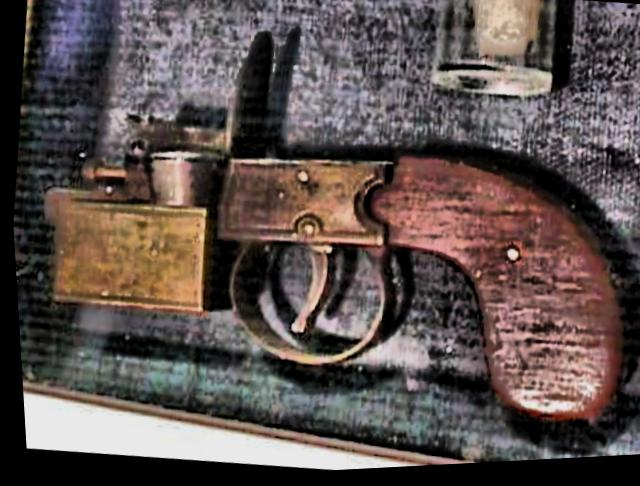pistol: (6, 90, 636, 452)
